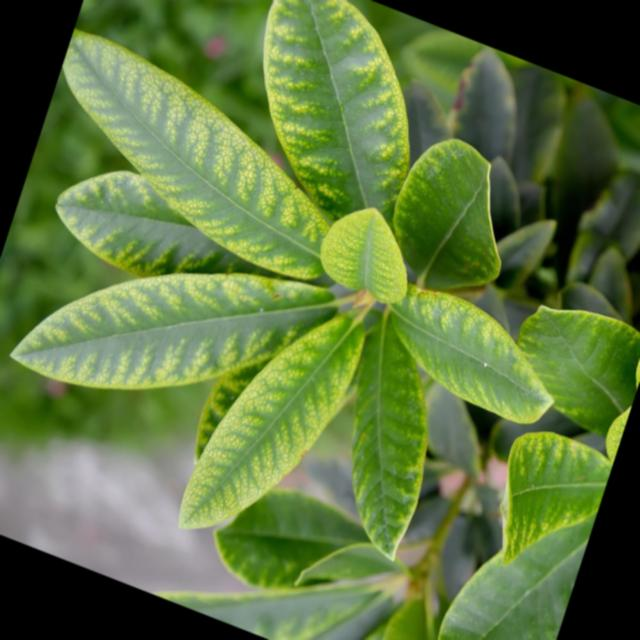Chlorosis: (46, 0, 510, 548)
